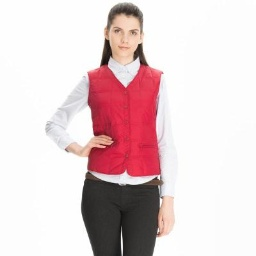face: (100, 2, 153, 68)
